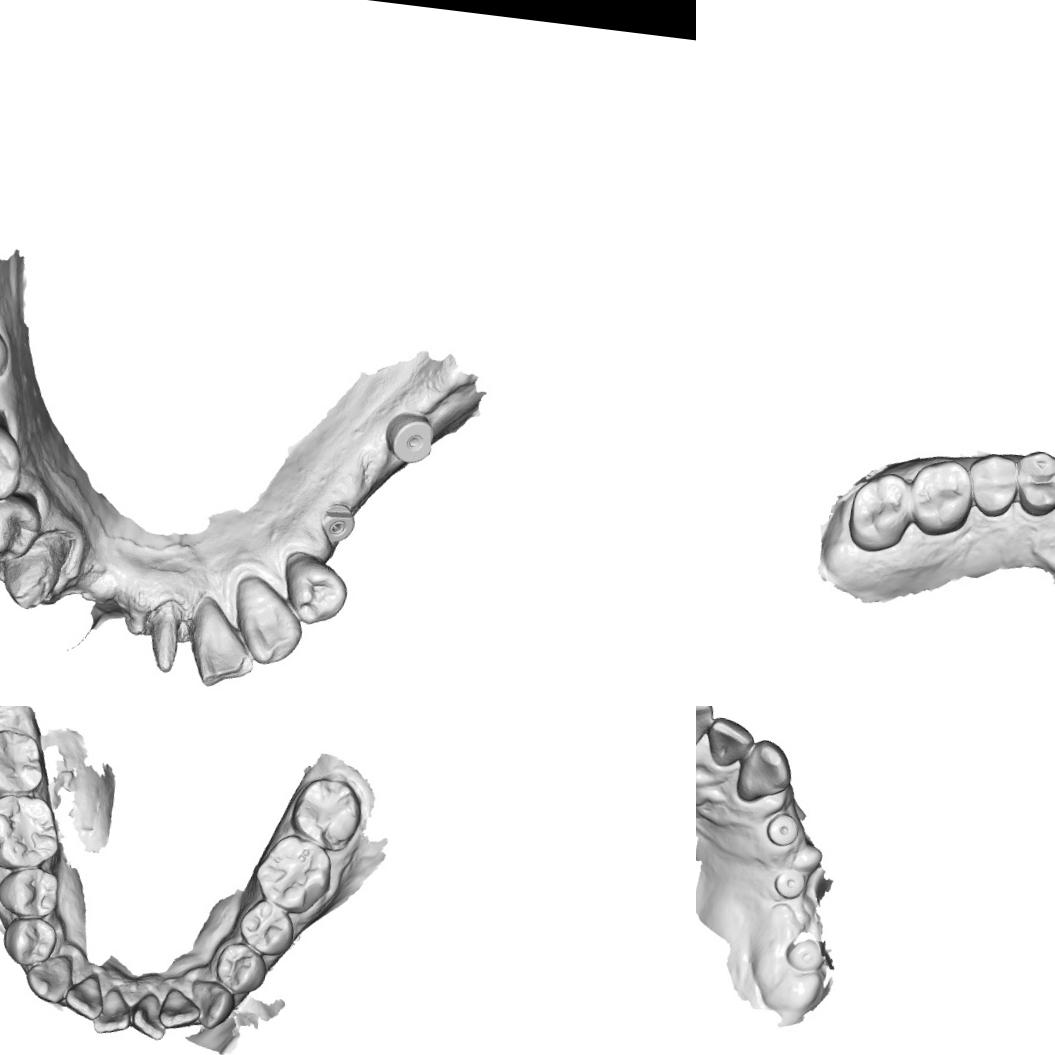canine: (226, 575, 306, 668), (733, 735, 797, 808), (22, 950, 76, 1007), (184, 977, 238, 1033)
crown: (0, 527, 71, 615), (137, 602, 187, 680)
implant: (380, 405, 436, 463), (782, 926, 828, 976), (312, 500, 358, 543), (762, 808, 802, 849), (769, 863, 808, 903)
incisor: (188, 598, 260, 692), (704, 714, 757, 770), (61, 968, 106, 1023), (156, 984, 204, 1034), (127, 989, 170, 1043), (92, 984, 132, 1038), (696, 706, 715, 756)
molar: (248, 829, 337, 919), (286, 772, 367, 856), (844, 468, 916, 557), (906, 454, 977, 540), (0, 788, 66, 877), (0, 724, 51, 803)
premolar: (278, 546, 352, 630), (965, 449, 1022, 522), (235, 896, 299, 960), (210, 939, 271, 999), (0, 862, 62, 921), (0, 913, 60, 969), (1010, 446, 1055, 520), (0, 491, 41, 568), (0, 418, 29, 505)
